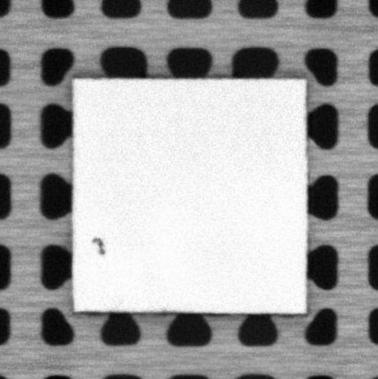DIE_INK: (90, 234, 105, 256)
